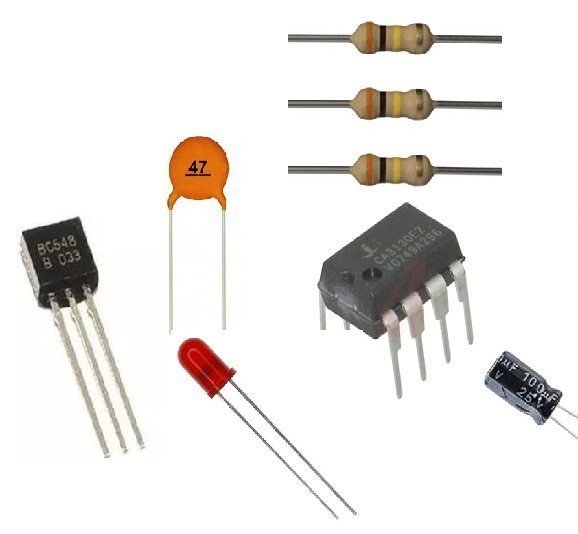Capacitor: (483, 350, 563, 426)
LED: (177, 336, 237, 400)
Resistor: (352, 87, 437, 121), (352, 154, 436, 187), (353, 21, 434, 55)
